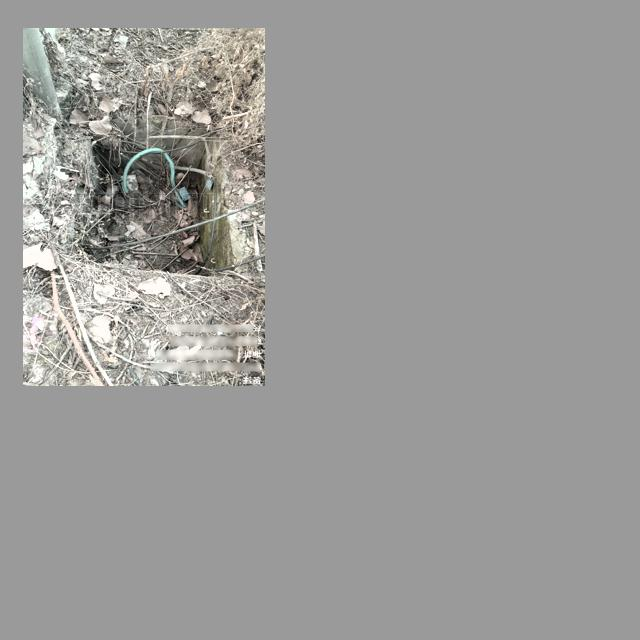lose: (55, 119, 237, 280)
